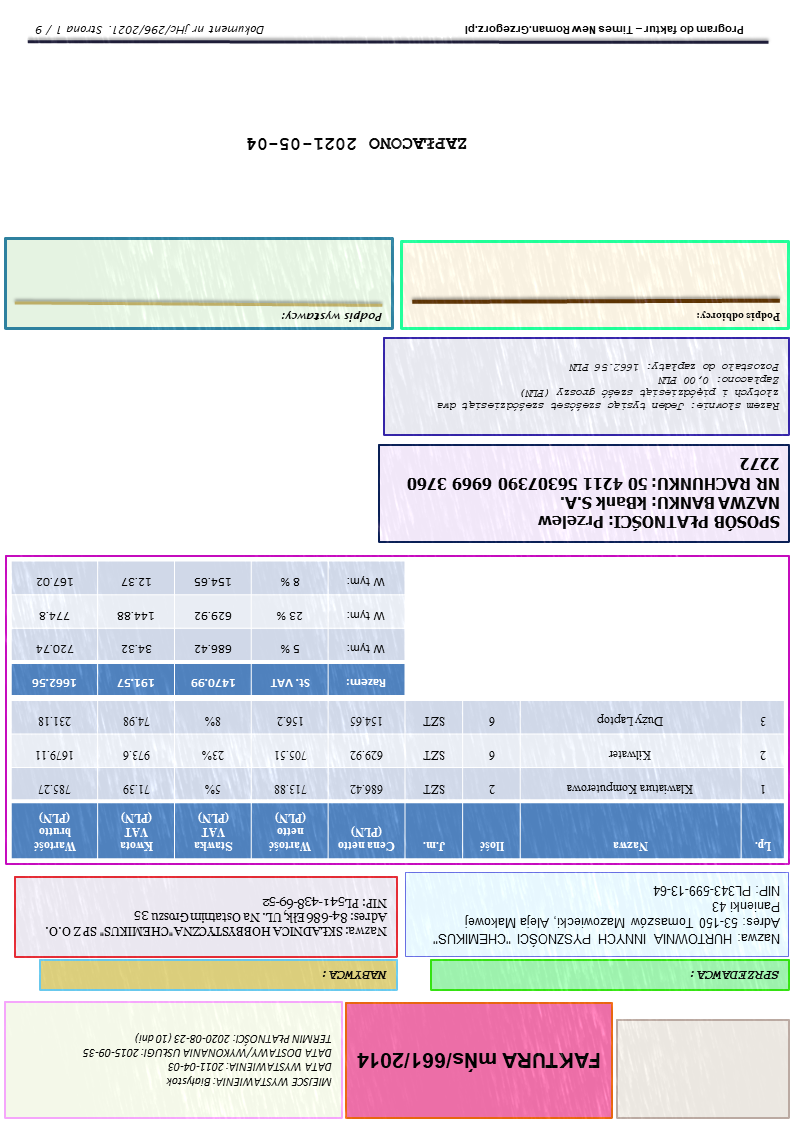Table: (11, 699, 785, 860), (10, 560, 407, 697)
TextBox: (406, 454, 783, 533), (430, 882, 783, 949), (434, 360, 782, 415), (43, 894, 390, 941), (81, 1032, 334, 1090), (355, 1050, 602, 1074), (463, 21, 746, 37), (244, 134, 469, 154), (34, 22, 267, 38), (280, 309, 385, 324), (697, 309, 782, 325), (689, 968, 781, 982), (321, 968, 390, 982)
